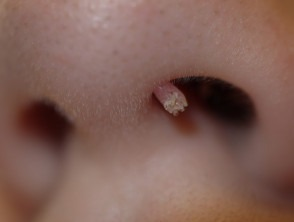Warts: (142, 66, 193, 124)
